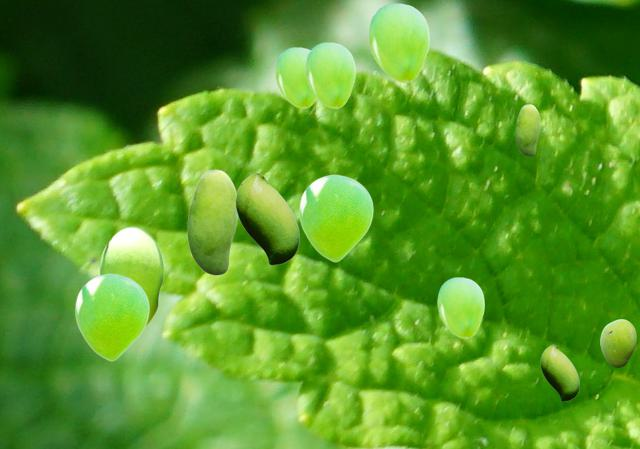green_mango: (99, 226, 163, 326), (299, 174, 372, 261), (75, 273, 148, 360), (235, 172, 298, 264), (187, 169, 237, 274), (368, 3, 428, 81), (305, 42, 354, 107), (437, 277, 483, 337), (275, 47, 316, 107), (540, 344, 578, 400), (600, 319, 635, 366), (515, 104, 539, 155)
